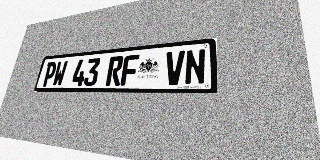3: (83, 58, 101, 86)
4: (71, 59, 88, 86)
F: (120, 54, 139, 86)
N: (184, 48, 206, 85)
P: (41, 62, 57, 87)
R: (105, 56, 124, 86)
V: (164, 50, 185, 85)
W: (51, 61, 68, 86)
